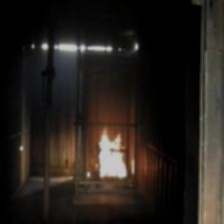fire: (93, 127, 136, 186)
